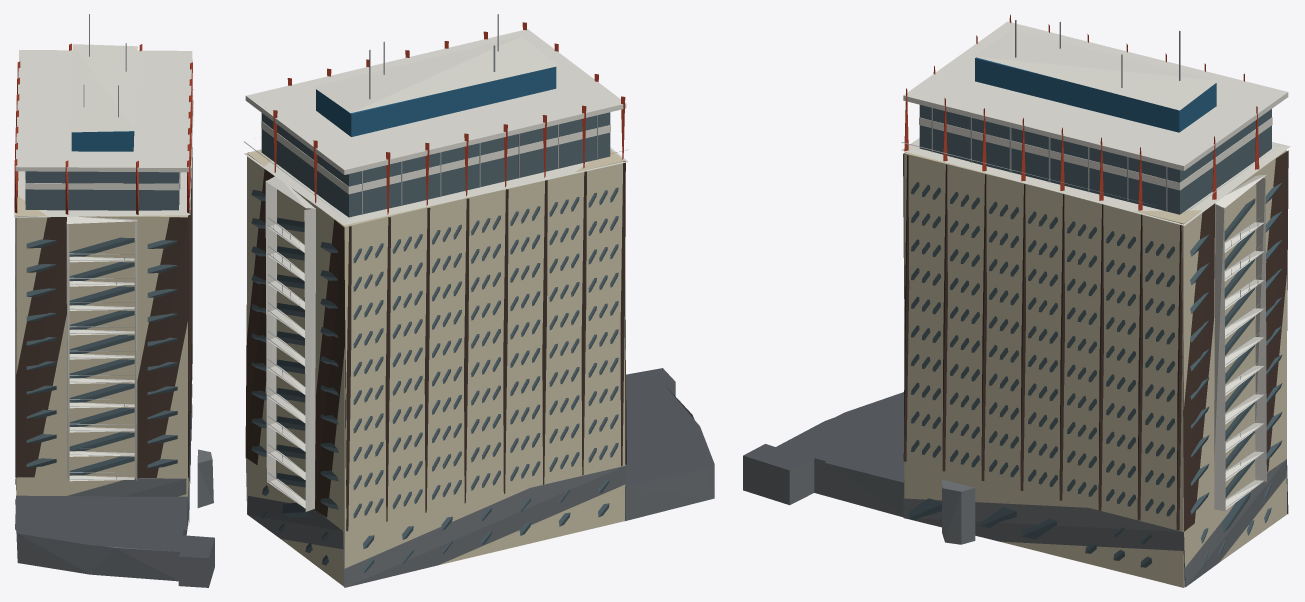
File: havengebouw.lod1.glb
The picture shows the model from 3 angles, left to right: view 1: azimuth 30°, elevation 25°; view 2: azimuth 150°, elevation 25°; view 3: azimuth 270°, elevation 25°; orthographic projection. The views are drawn at different scales.
Visible parts, largest first — view 1: havengebouw; view 2: havengebouw; view 3: havengebouw.
Boxes of the visible parts, x1,y1,x2,y2 form: havengebouw: (14,14,214,587); havengebouw: (244,14,714,587); havengebouw: (743,14,1290,587).
Bounding box in the file's own units: 43.23 × 60.05 × 59.95.
